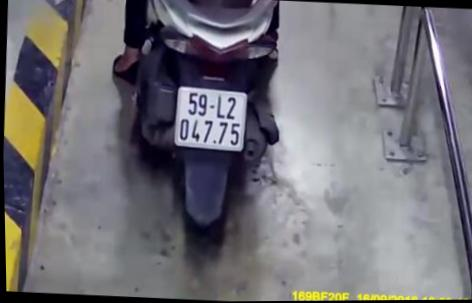LP: (171, 83, 248, 155)
